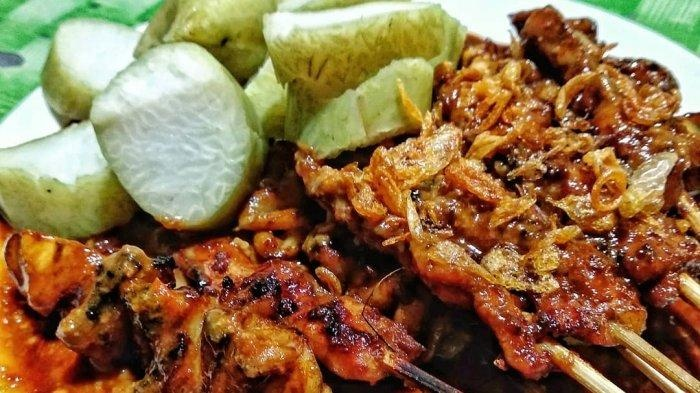sate_madura: (44, 24, 700, 393)
